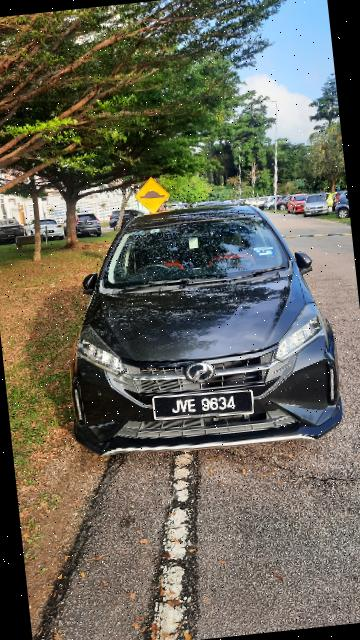License_Plate: (146, 383, 258, 429)
car: (47, 177, 351, 467)
